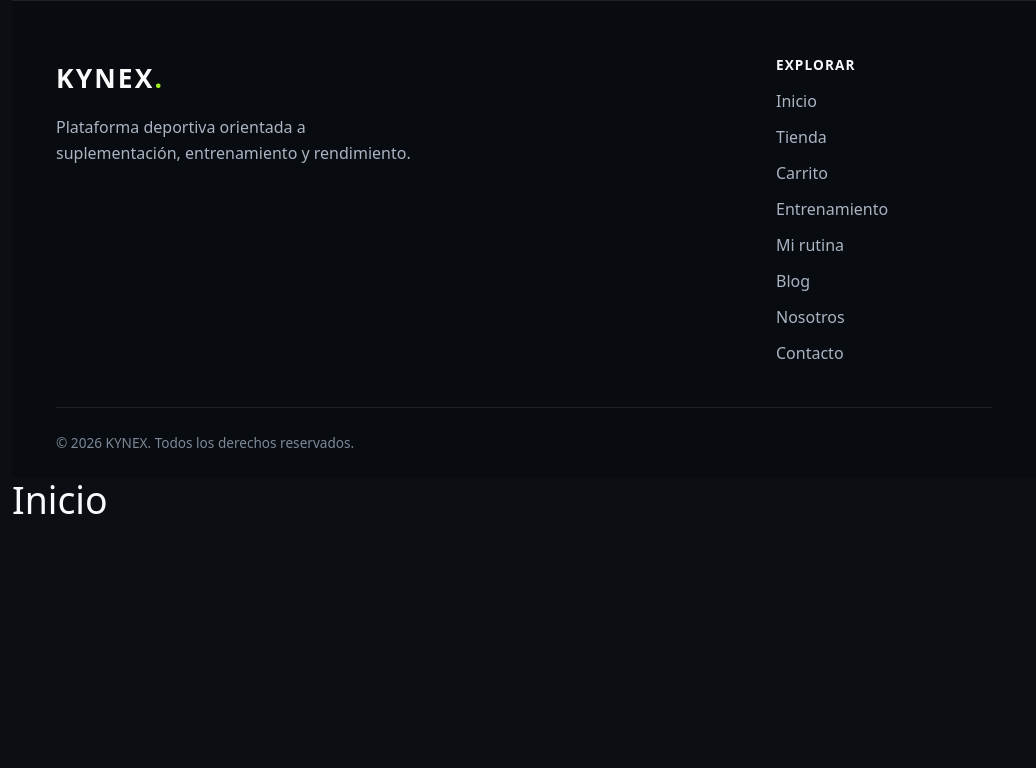
Scenario: Footer › navega con React Router desde el pie de página
The image size is (1036, 768).
Click the link "Tienda" at (801, 137), box 776,126 -> 827,148
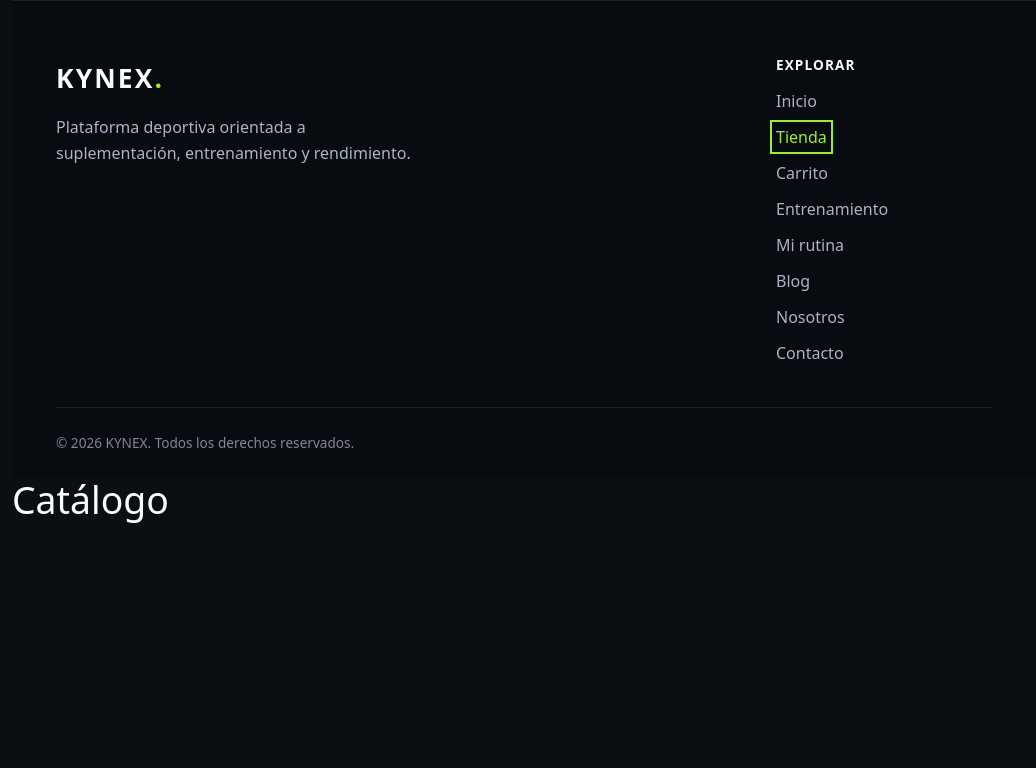
Expected: the heading "Catálogo" is shown, 12,474 -> 169,524
